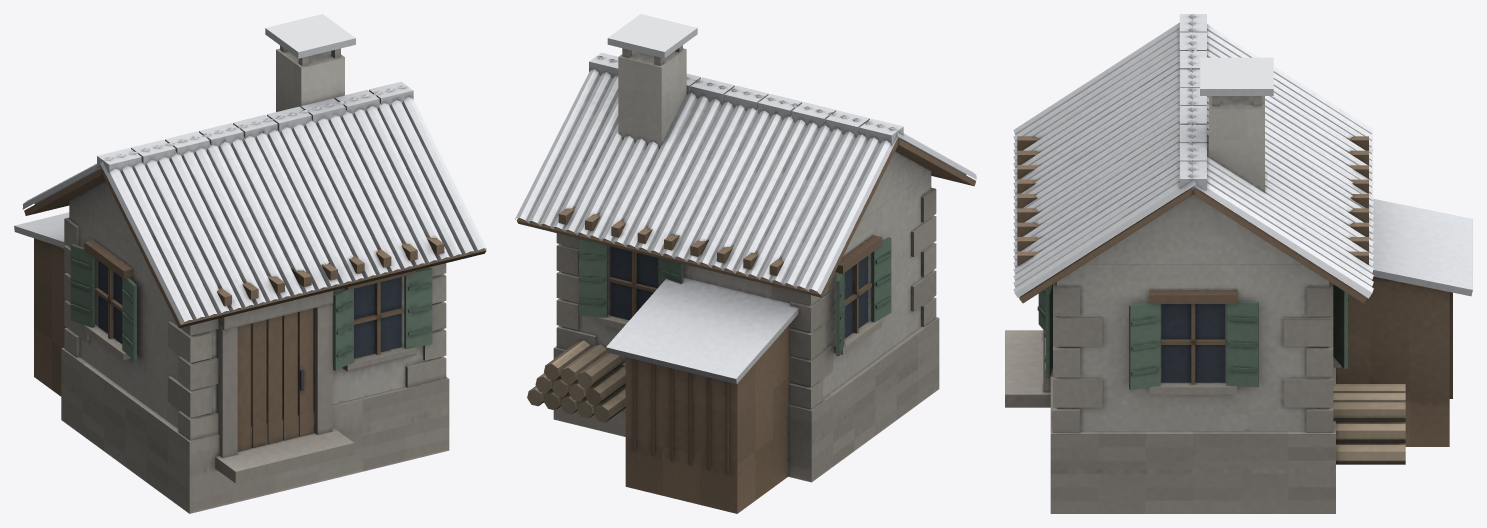
Rendered from plaster-40x28x34-r12-s1-snow.glb.
The picture shows the model from 3 angles, left to right: view 1: azimuth 30°, elevation 25°; view 2: azimuth 150°, elevation 25°; view 3: azimuth 270°, elevation 25°; orthographic projection. The views are drawn at different scales.
Parts seen in each view (by area): view 1: Farmhouse; view 2: Farmhouse; view 3: Farmhouse.
Part boxes in pixels (x1,y1,x2,y2): Farmhouse: (14, 14, 486, 513); Farmhouse: (515, 14, 976, 513); Farmhouse: (1005, 14, 1472, 513).
Bounding box in the file's own units: 4.92 × 5.66 × 5.84.
Materials: 1 (1 with a texture image).
